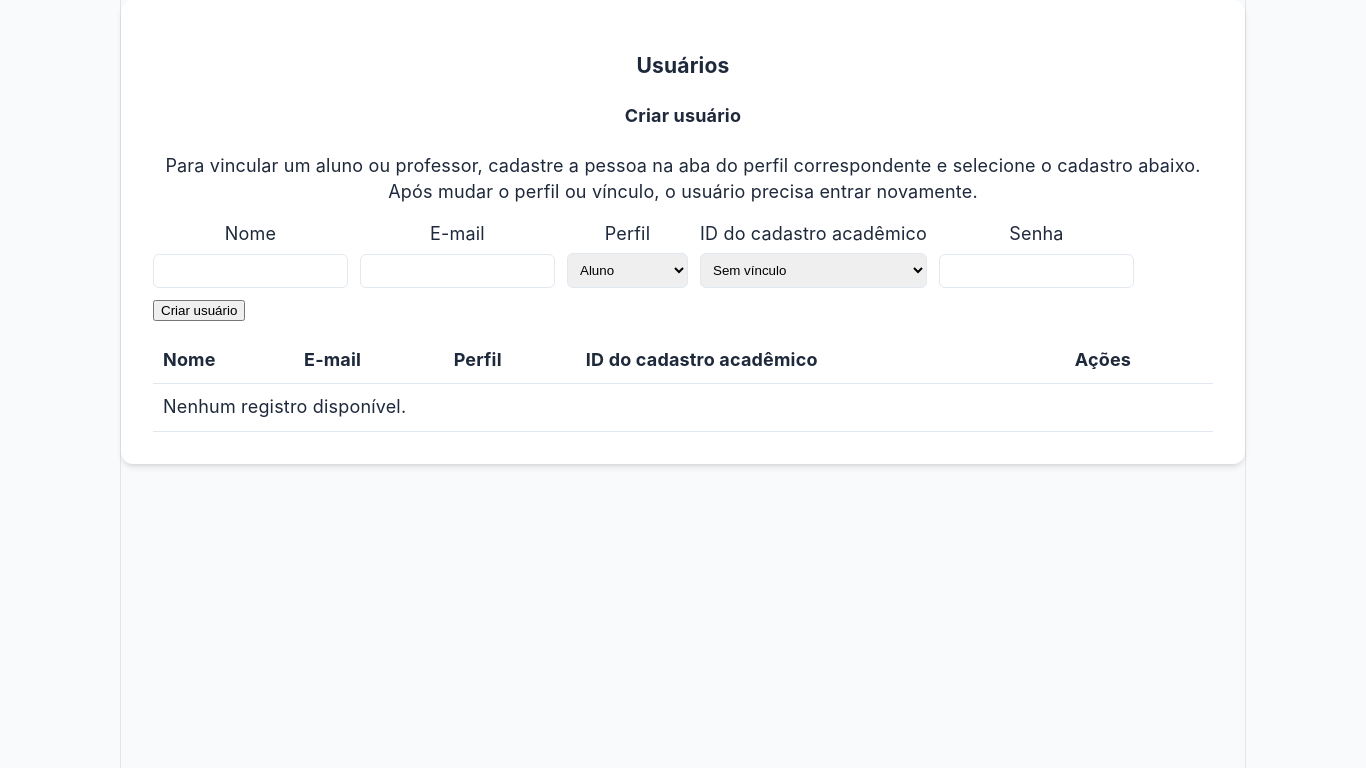
Test: cria uma conta de aluno com o ID do cadastro escolhido
In the field labelled "Nome": (250, 271) [153,254,348,288], type "Ana Silva"
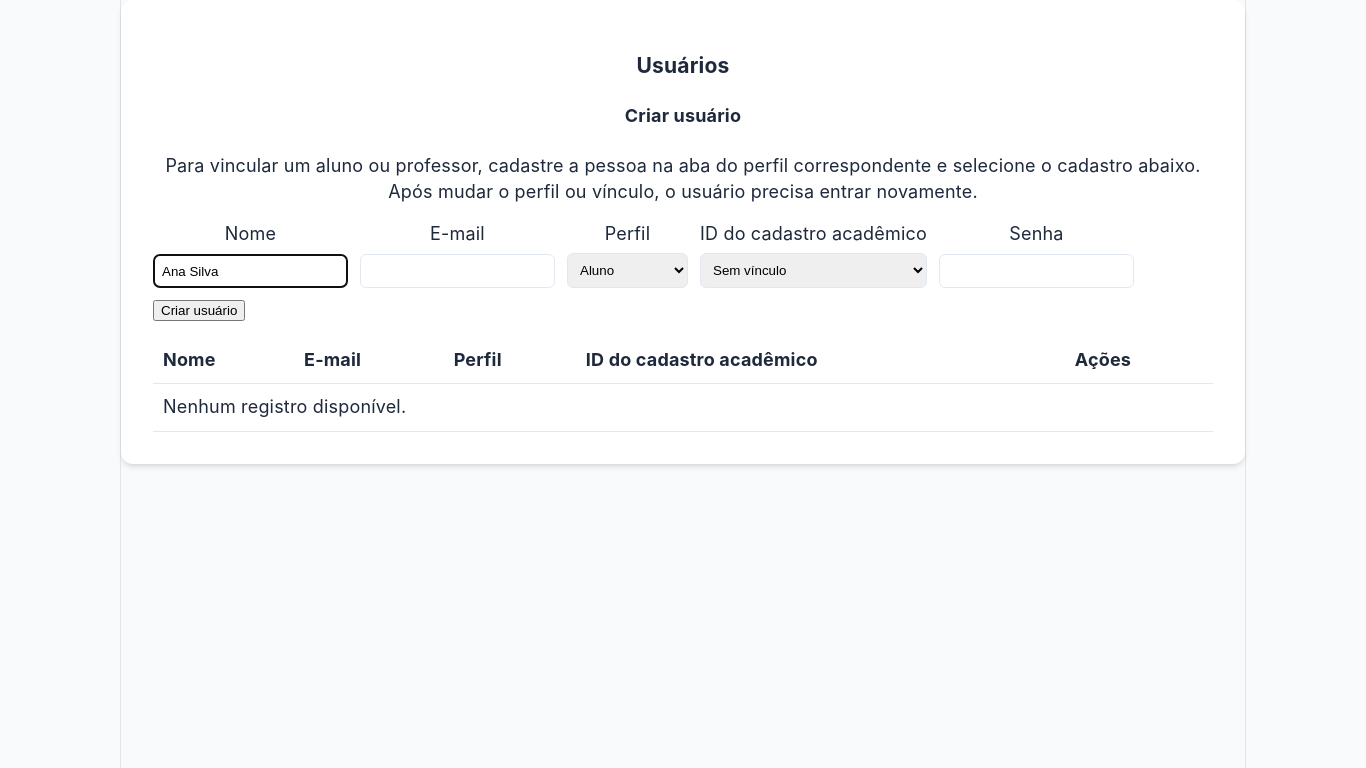
In the field labelled "E-mail": (458, 271) [360,254,555,288], type "ana@example.org"
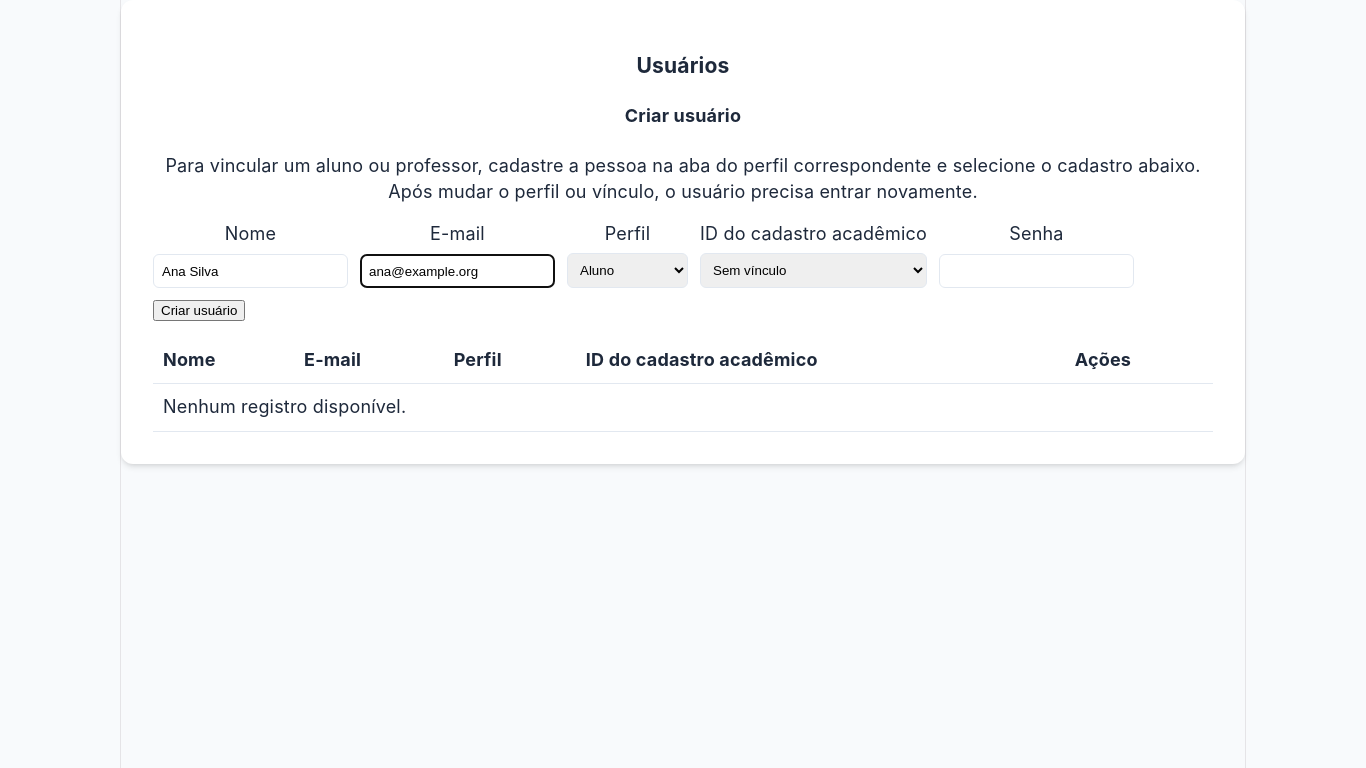
In the password field labelled "Senha": (1036, 271) [939,254,1134,288], type "senha-segura"
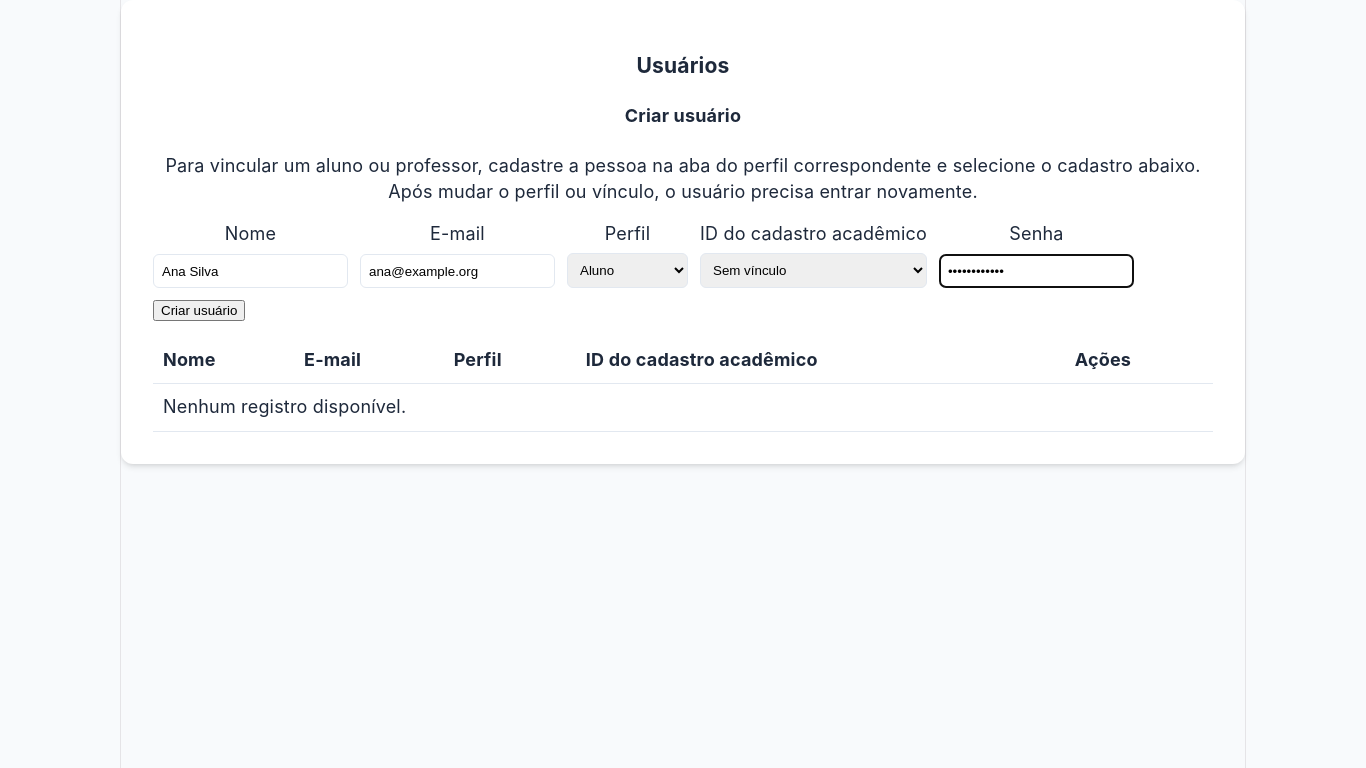
Select "Ana Silva · 2026001" in the dropdown labelled "ID do cadastro acadêmico": (813, 271) [700,253,927,288]
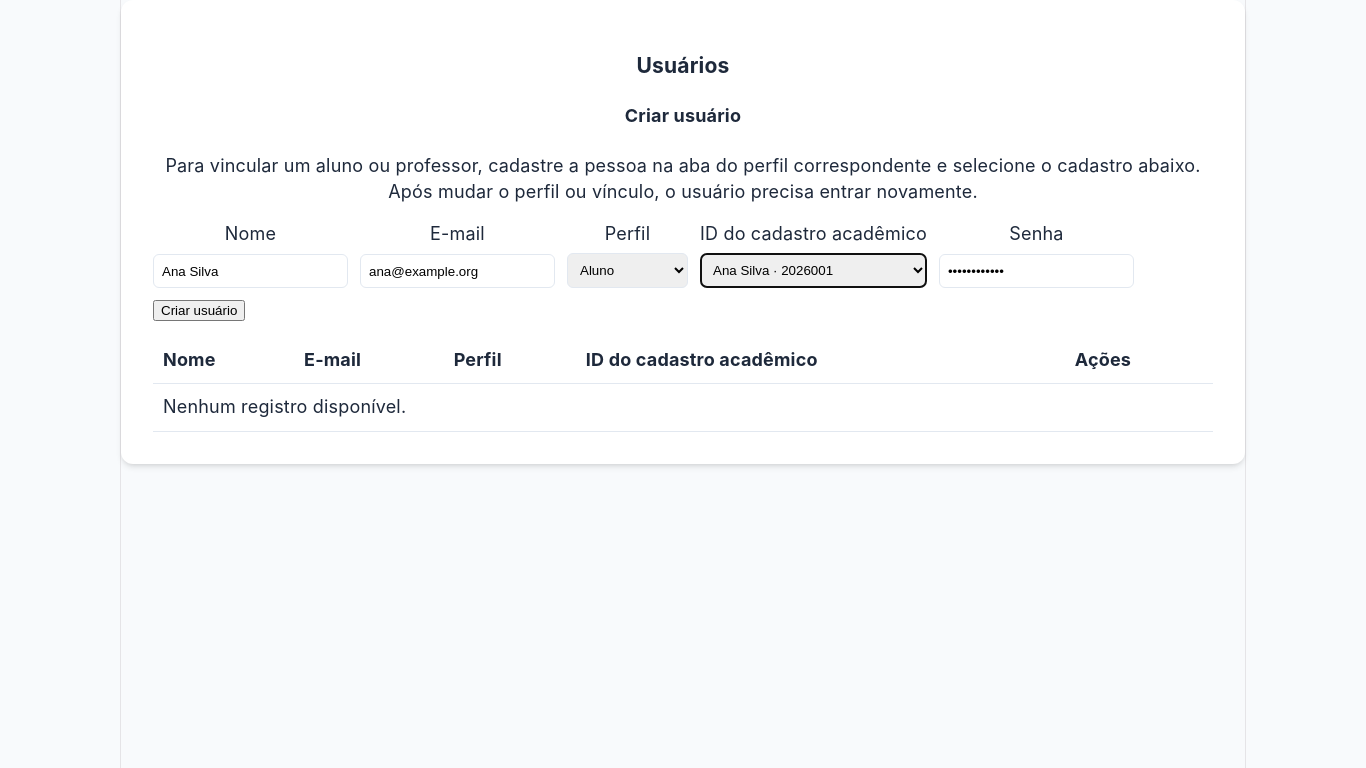
Click the button "Criar usuário": (199, 311) [153,300,245,321]
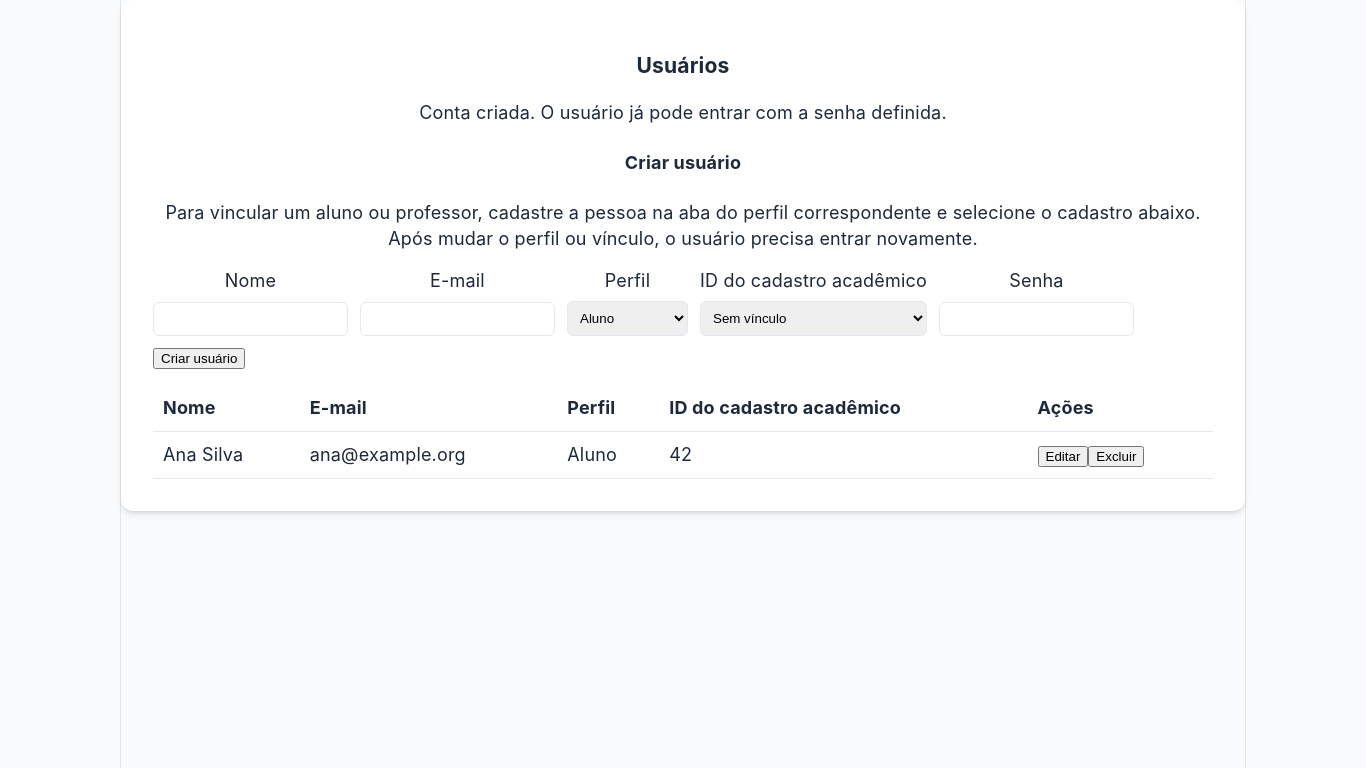
Expected: the password field labelled "Senha" is empty, [939,302,1134,336]
Expected: the message shows "Conta criada", [419,102,947,123]
Expected: the cell "42" is shown, [659,431,1028,478]
